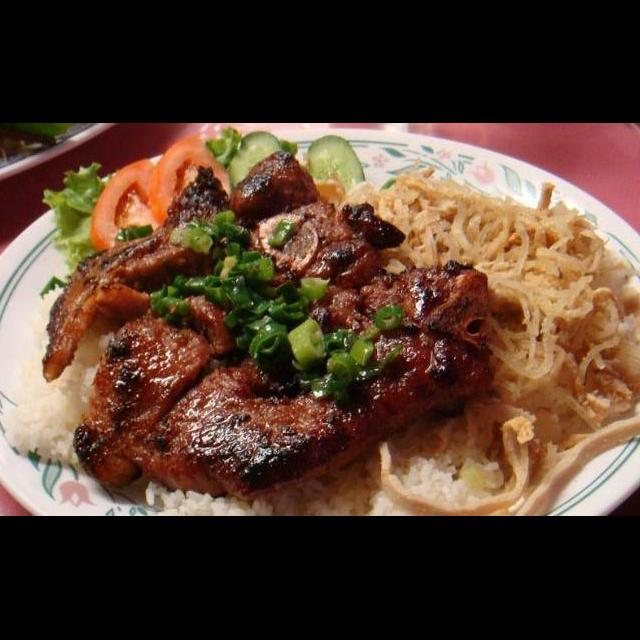bi: (459, 269, 640, 488), (341, 164, 634, 276)
com: (0, 285, 115, 468), (280, 428, 509, 516), (140, 476, 287, 516)
com suon: (0, 149, 640, 516)
suon: (36, 146, 493, 504)
